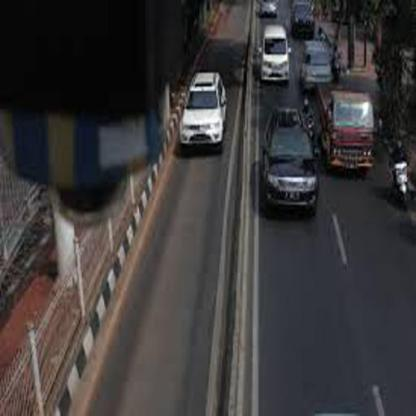car: (260, 108, 323, 217), (179, 73, 228, 150), (259, 23, 291, 86), (300, 38, 328, 93)
motorbike: (390, 154, 415, 208)
